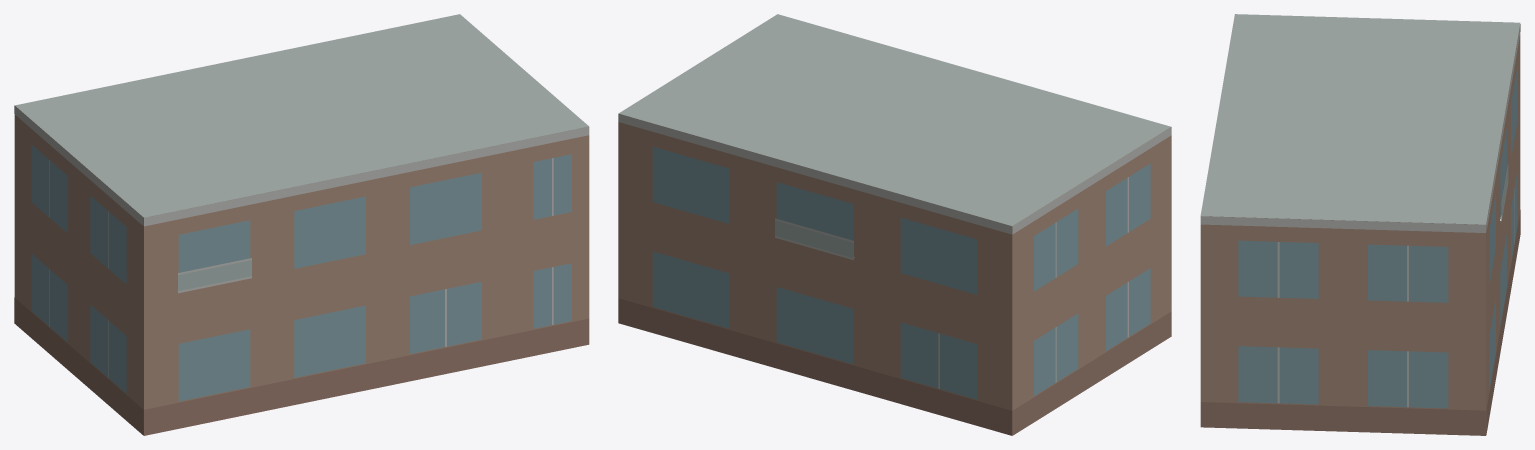
Rendered from survey-upis-32510533.glb.
3 views of the same model, side by side, from view 1: azimuth 30°, elevation 25°; view 2: azimuth 150°, elevation 25°; view 3: azimuth 270°, elevation 25° (orthographic). The views are drawn at different scales.
Parts seen in each view (by area): view 1: survey-upis-32510533.tmp; view 2: survey-upis-32510533.tmp; view 3: survey-upis-32510533.tmp.
Boxes of the visible parts, box(x1,y1,x2,y2) form: survey-upis-32510533.tmp: box(14, 14, 589, 435); survey-upis-32510533.tmp: box(618, 14, 1171, 435); survey-upis-32510533.tmp: box(1200, 14, 1520, 435).
Bounding box in the file's own units: 13.06 × 6.1 × 8.39.
